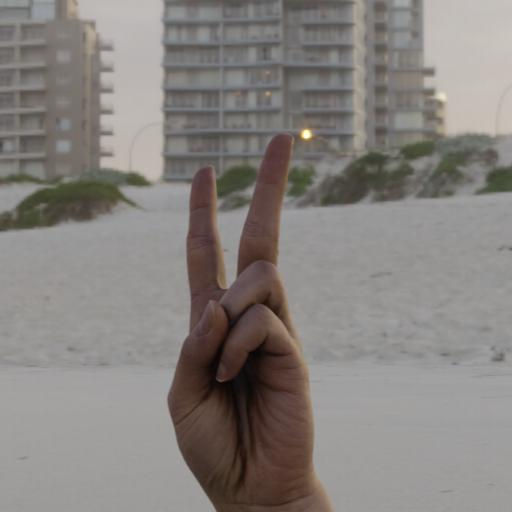V: (161, 123, 336, 512)
